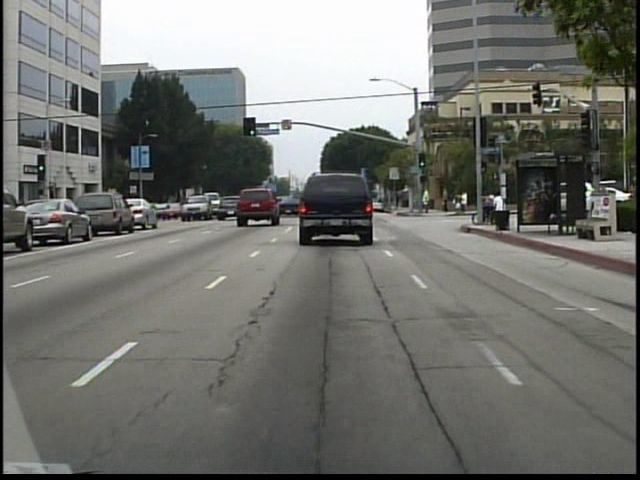person: (420, 184, 434, 217), (440, 181, 453, 215), (398, 186, 399, 211)
